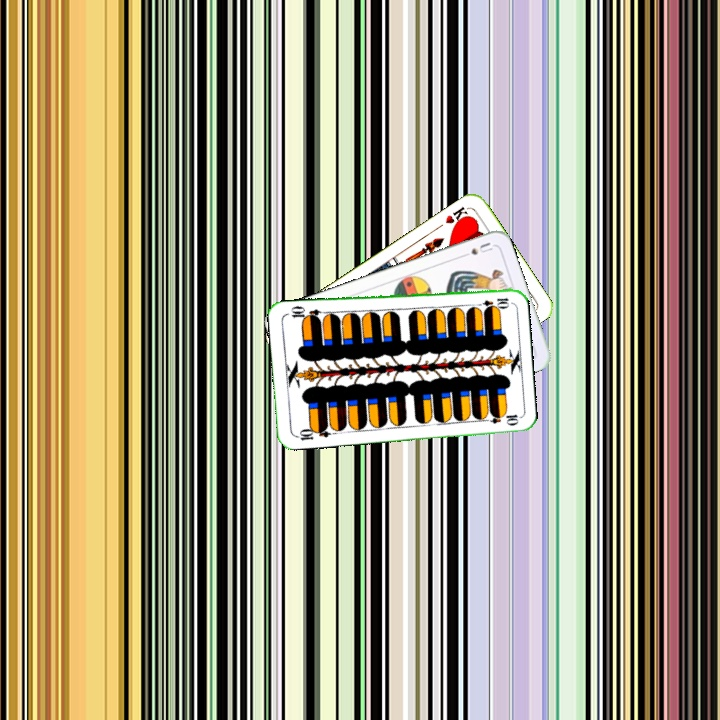E10: (292, 422, 332, 443), (471, 294, 512, 310)
HK: (441, 202, 472, 229)
SU: (456, 238, 495, 261)
